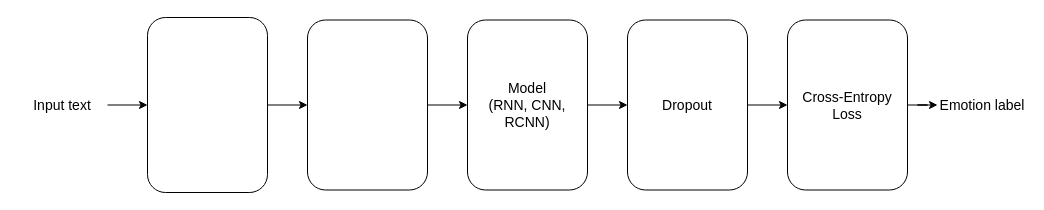
This 1044x210 diagram has some shape labels left out. The box of each missing label's shape, as (x1, y1, x2, y2) in pixels:
Pre-processing: (146, 16, 268, 192)
Pre-trained embeddings from (BERT, ELmo, Word2Vec & GloVe): (306, 19, 428, 190)
